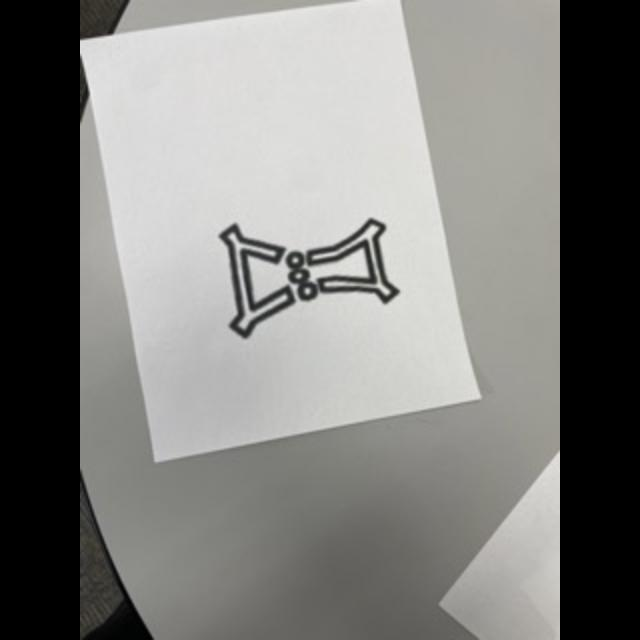abydos6: (204, 204, 412, 346)
